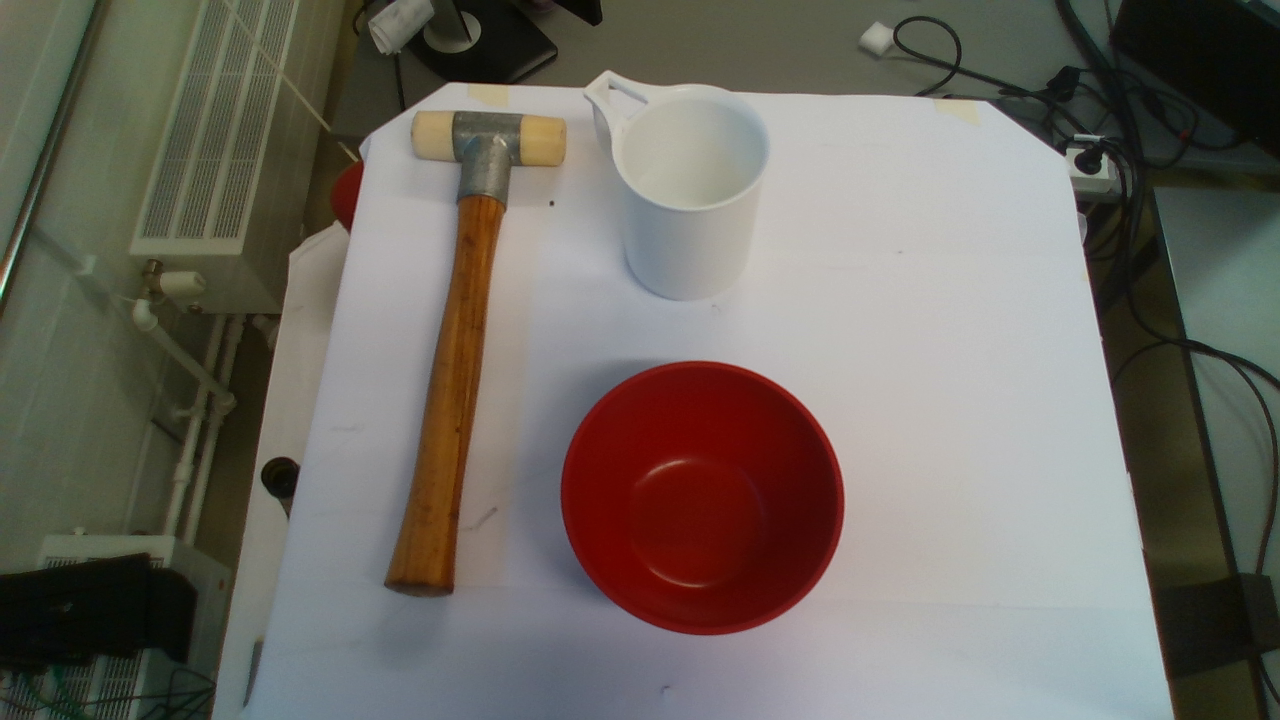bowl: (560, 360, 848, 636)
cup: (577, 66, 771, 309)
hammer: (383, 108, 567, 598)
